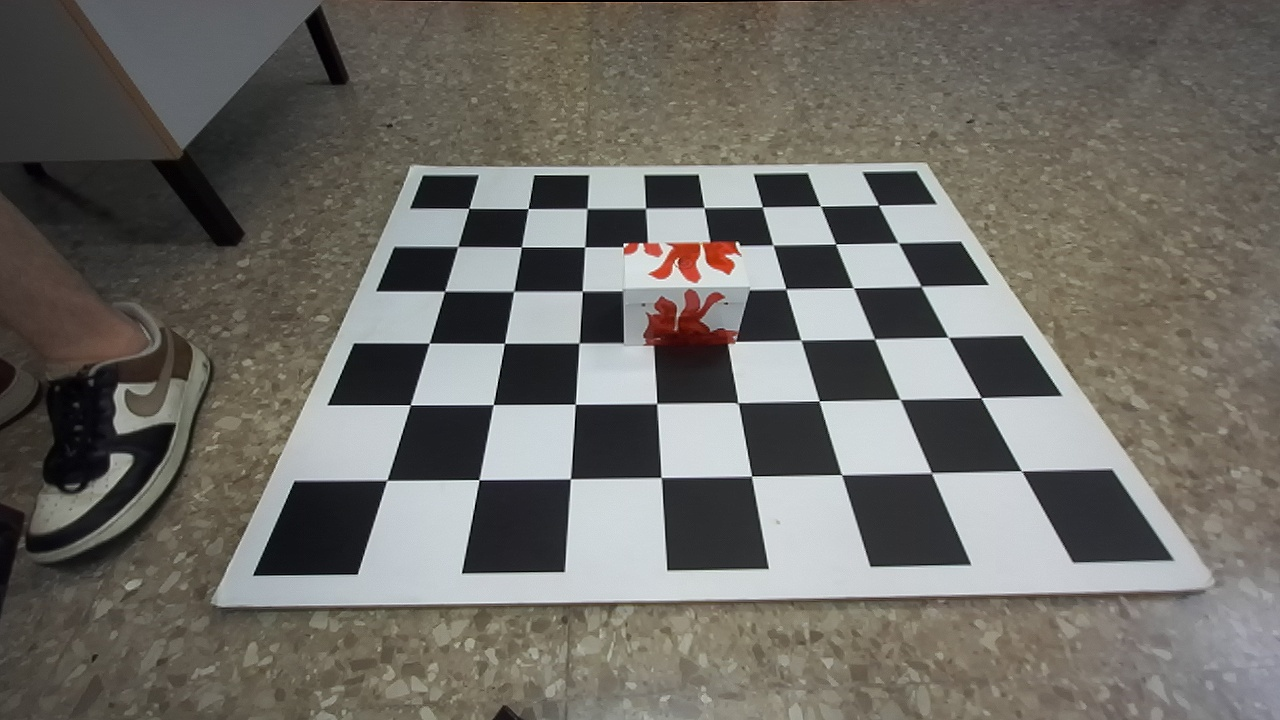caja_potencia: (623, 243, 750, 345)
